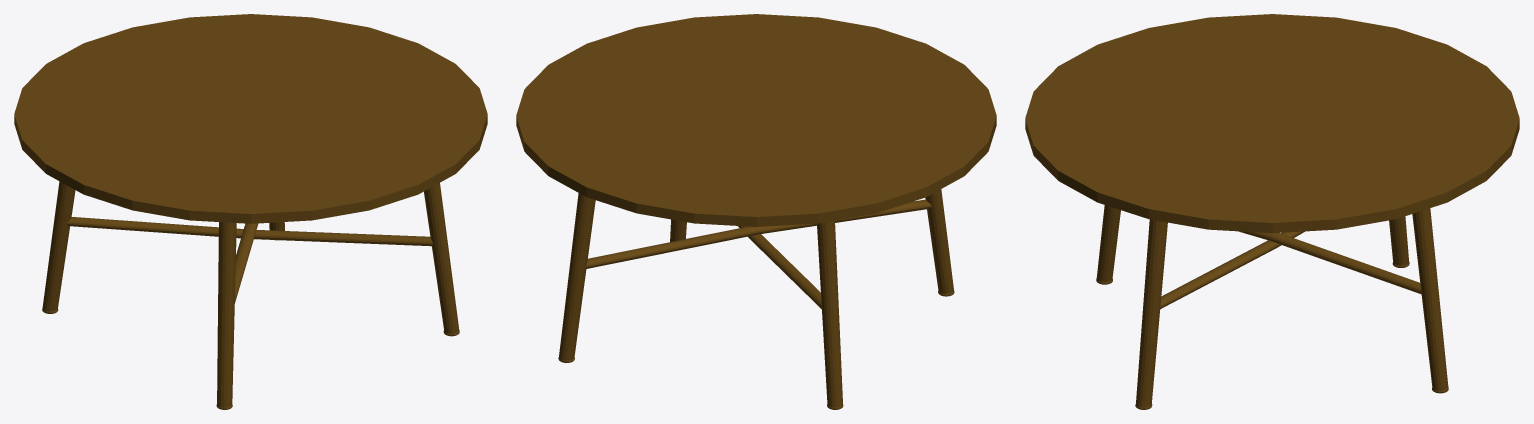
Rendered from CoffeeTable_7.fbx.
3 renders of one model, left to right at view 1: azimuth 30°, elevation 25°; view 2: azimuth 150°, elevation 25°; view 3: azimuth 270°, elevation 25°, orthographic. The views are drawn at different scales.
Visible parts, largest first — view 1: CoffeeTable7; view 2: CoffeeTable7; view 3: CoffeeTable7.
Boxes of the visible parts, x1,y1,x2,y2 form: CoffeeTable7: (14, 14, 487, 409); CoffeeTable7: (516, 14, 996, 409); CoffeeTable7: (1025, 14, 1519, 409).
Size of the model in its own units: 315 by 153 by 315.
